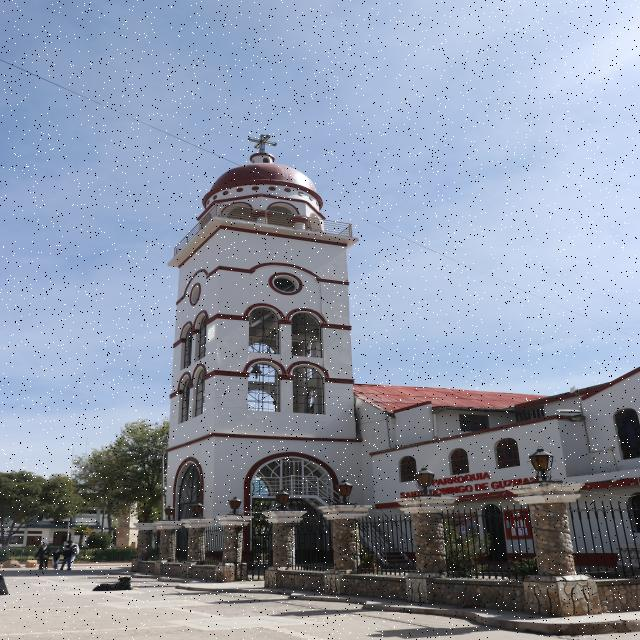CAMPANARIO: (152, 232, 366, 448)
CUPULA: (188, 144, 353, 235)
TORRES: (150, 82, 402, 580)
colonial-architecture-: (113, 64, 640, 606)
